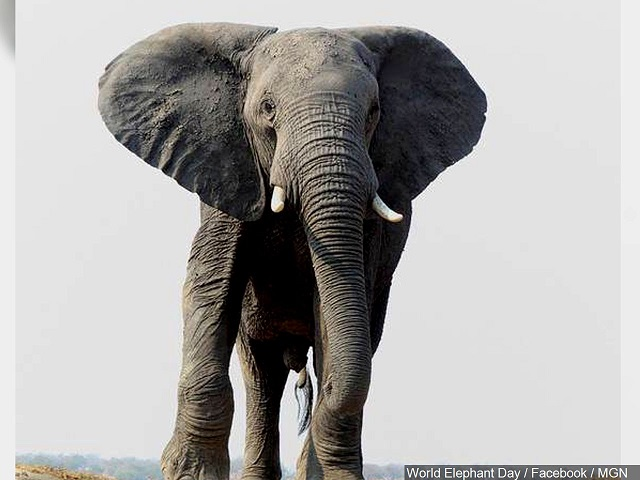elephant: (95, 14, 493, 479)
